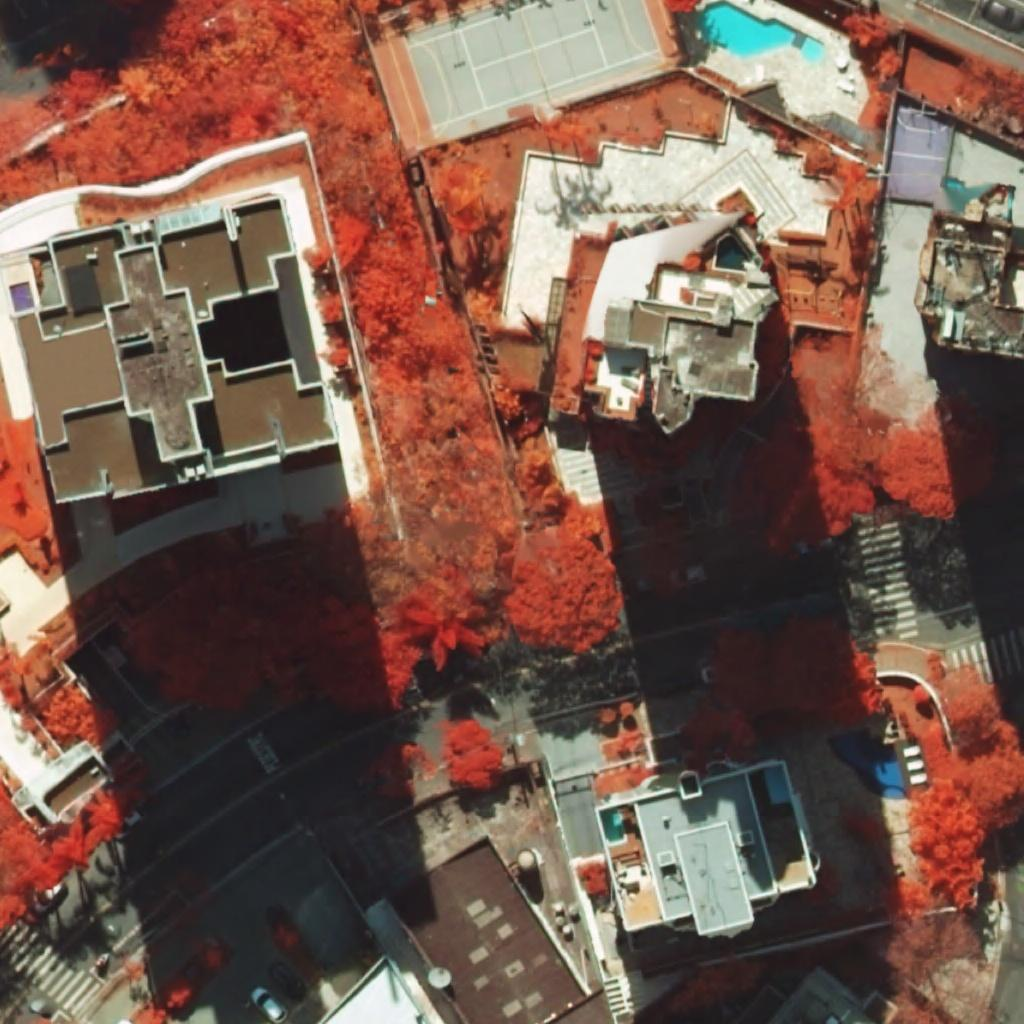pool: (698, 0, 825, 59), (828, 728, 908, 799), (716, 235, 750, 272), (599, 807, 625, 842)
